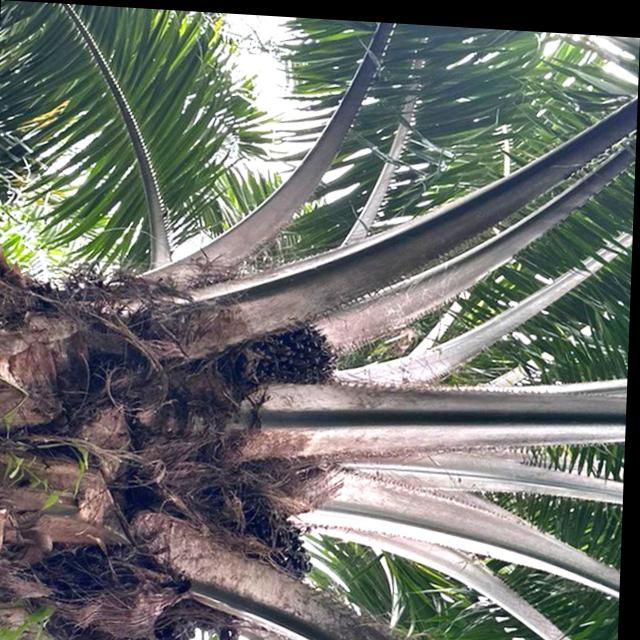almost: (223, 304, 351, 404)
unripe: (207, 473, 329, 601)
